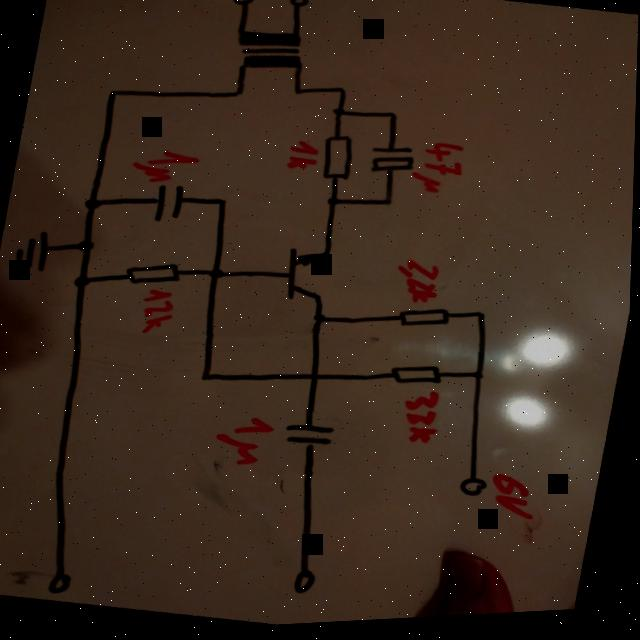capacitor: (278, 410, 346, 464), (142, 178, 199, 229), (368, 139, 424, 186)
crossover: (309, 368, 329, 389)
ground: (11, 221, 63, 278)
junction: (77, 232, 105, 258), (72, 268, 100, 293), (81, 192, 109, 215), (198, 367, 224, 391), (207, 264, 232, 286), (326, 194, 347, 213), (473, 310, 494, 329), (312, 312, 334, 330), (382, 196, 401, 215), (215, 194, 235, 212), (329, 107, 352, 122), (472, 371, 492, 388), (291, 85, 312, 101), (230, 88, 250, 104), (385, 111, 403, 126), (335, 85, 352, 100), (107, 86, 124, 100)
resistor: (317, 131, 365, 190), (123, 254, 190, 295), (397, 302, 460, 342), (389, 361, 455, 396)
terminal: (288, 565, 330, 604), (45, 566, 84, 600), (458, 474, 497, 506), (287, 0, 314, 17), (230, 0, 260, 14)
text: (212, 409, 284, 475), (408, 138, 474, 205), (132, 141, 209, 191), (486, 471, 550, 531), (398, 388, 453, 456), (392, 256, 448, 314), (137, 286, 184, 341), (283, 138, 327, 182)
transformer: (226, 20, 314, 86)
transistor: (280, 242, 343, 312)
